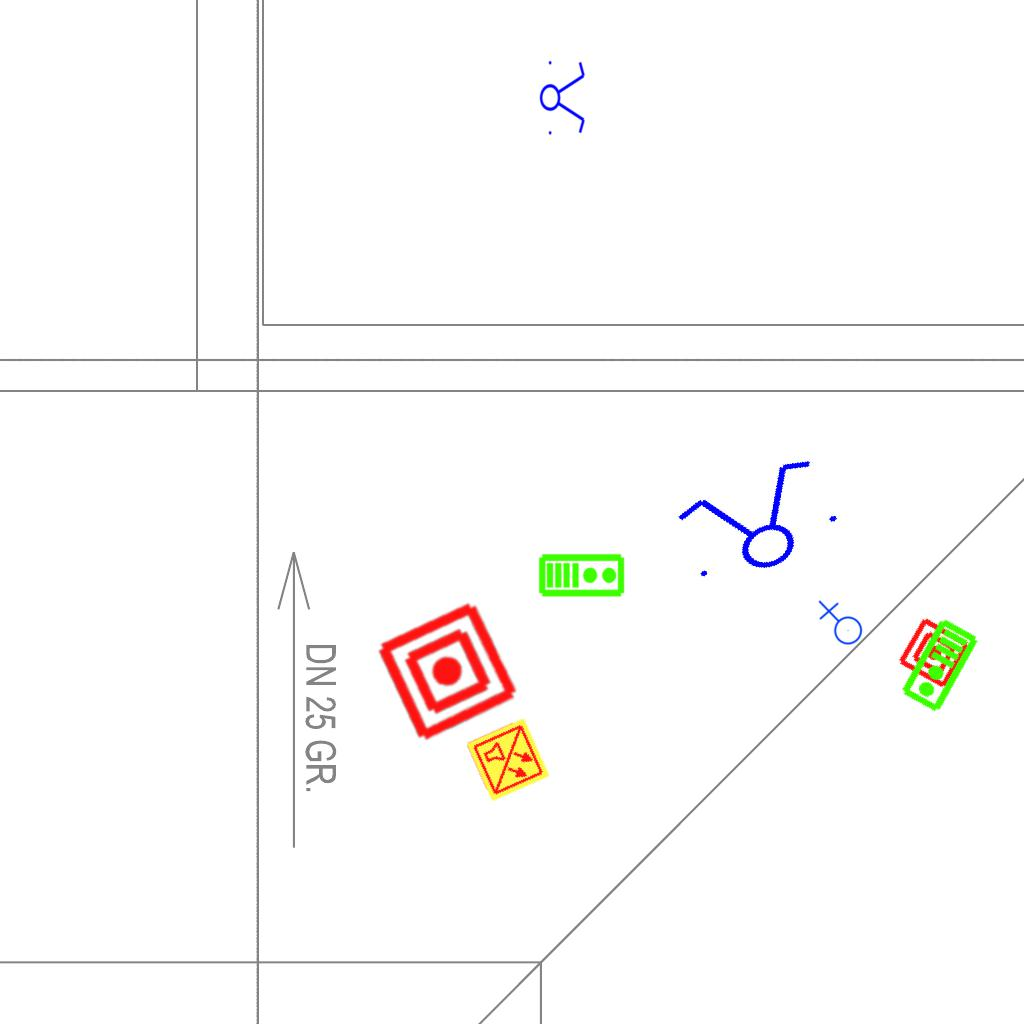Elektroanschluss_allgemein_230V_Geraeteanschlussdose_230V: (816, 600, 863, 649)
Gegensprechanlage_mit_Video: (898, 616, 983, 716), (538, 551, 626, 598)
NAM-Nichtautomatischer_Melder: (372, 596, 523, 747), (895, 614, 973, 692)
OKW_Multisensormelder_(Kombination_optischer_Rauch-Kahlenmonoxid_Waerme-Melder): (464, 716, 552, 804)
Serienschalter: (660, 445, 854, 601), (539, 55, 587, 139)
